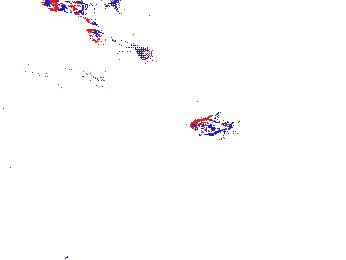X-ray fish: (145, 67, 167, 107), (318, 181, 344, 209)
red belly glassfish: (189, 115, 234, 137), (101, 30, 113, 47)
redtail glassfish: (86, 27, 150, 64), (40, 1, 121, 26)
